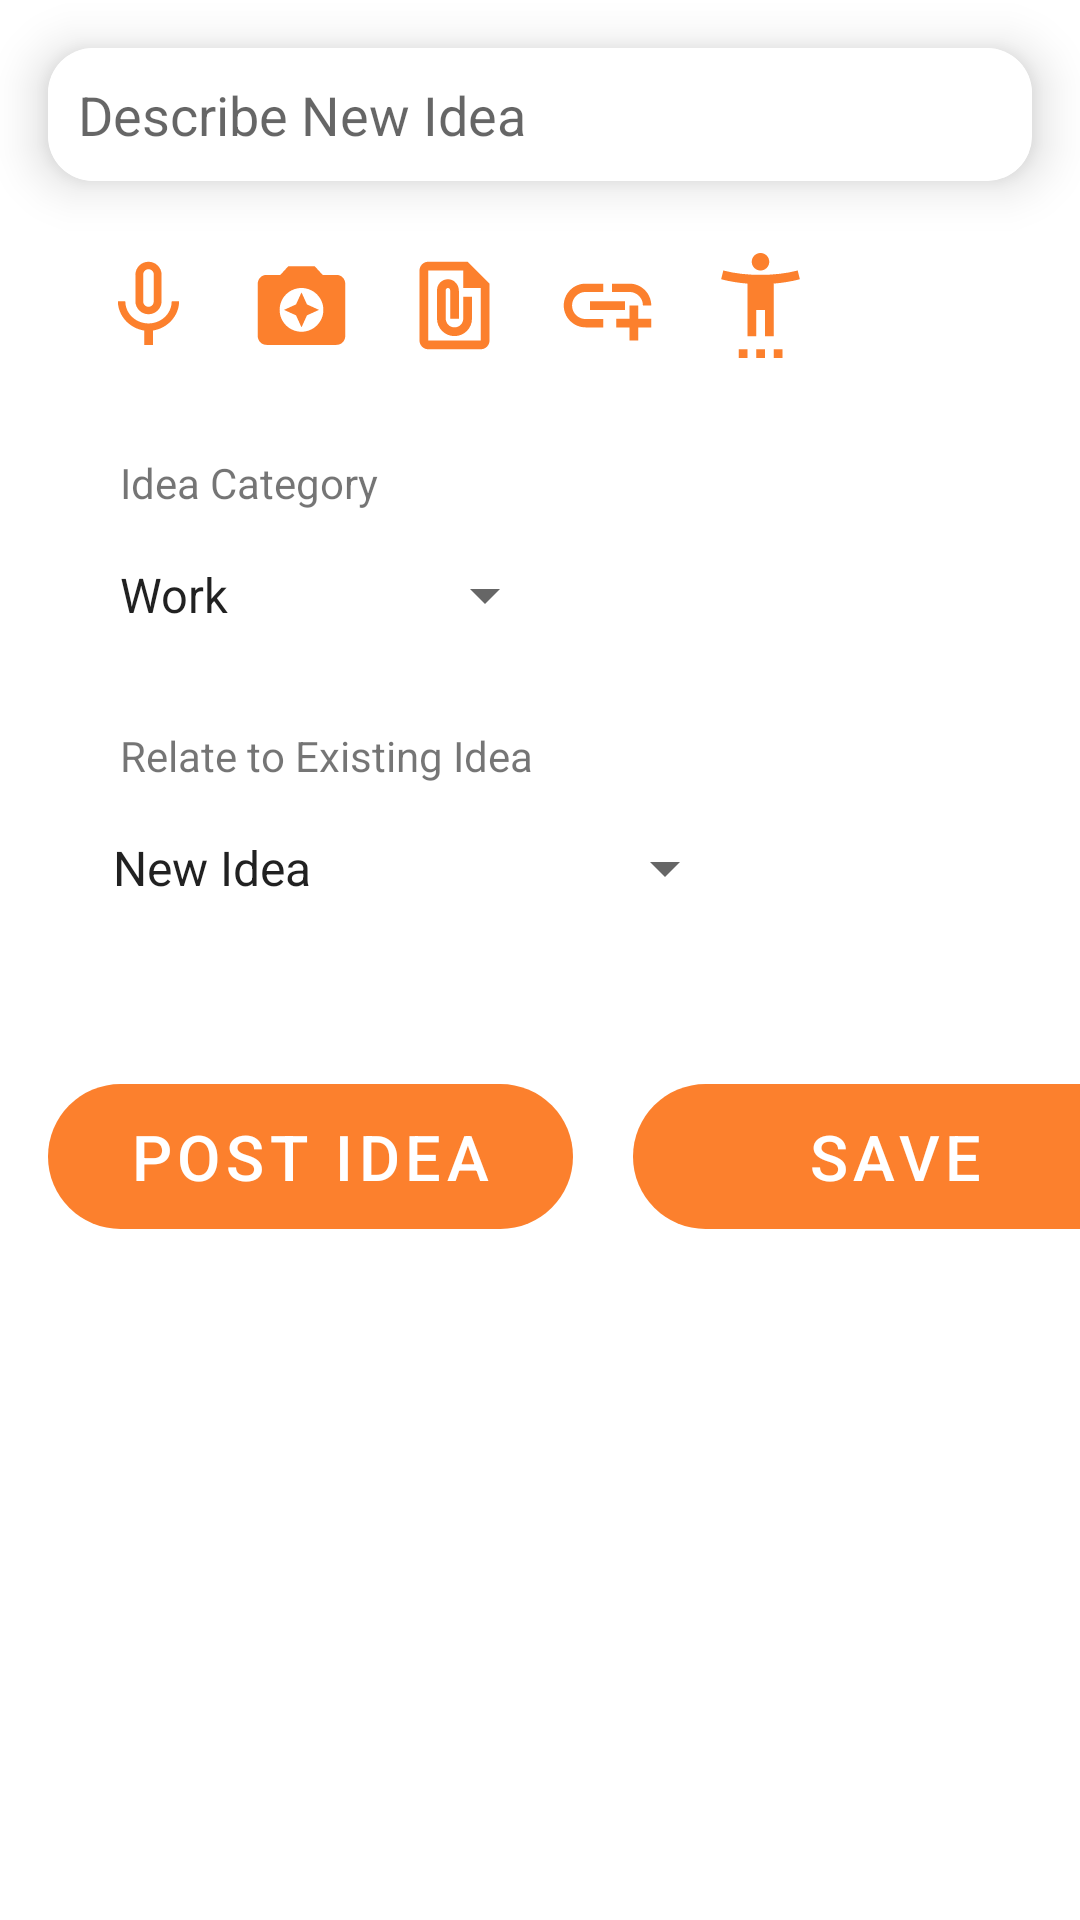

Icon bounding boxes for this 1080*1920 phone screenshot, format detection(x1, y1, x2, y2):
camera: detection(257, 266, 346, 345)
doc: detection(419, 261, 490, 350)
link: detection(563, 283, 652, 341)
mic: detection(118, 261, 179, 345)
person: detection(721, 253, 800, 358)
